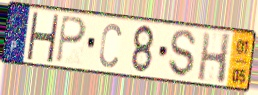8: (130, 23, 158, 76)
C: (97, 21, 123, 70)
H: (24, 10, 61, 65), (196, 31, 233, 86)
P: (55, 14, 88, 65)
S: (168, 28, 198, 80)
